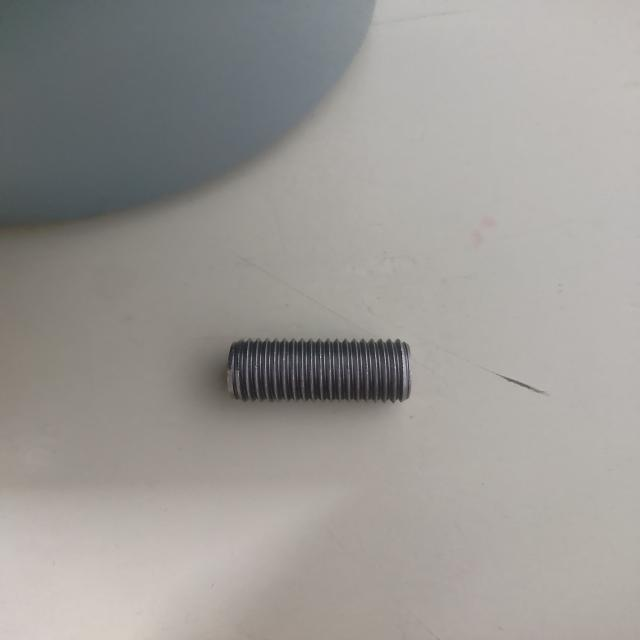Normal: (226, 336, 414, 404)
